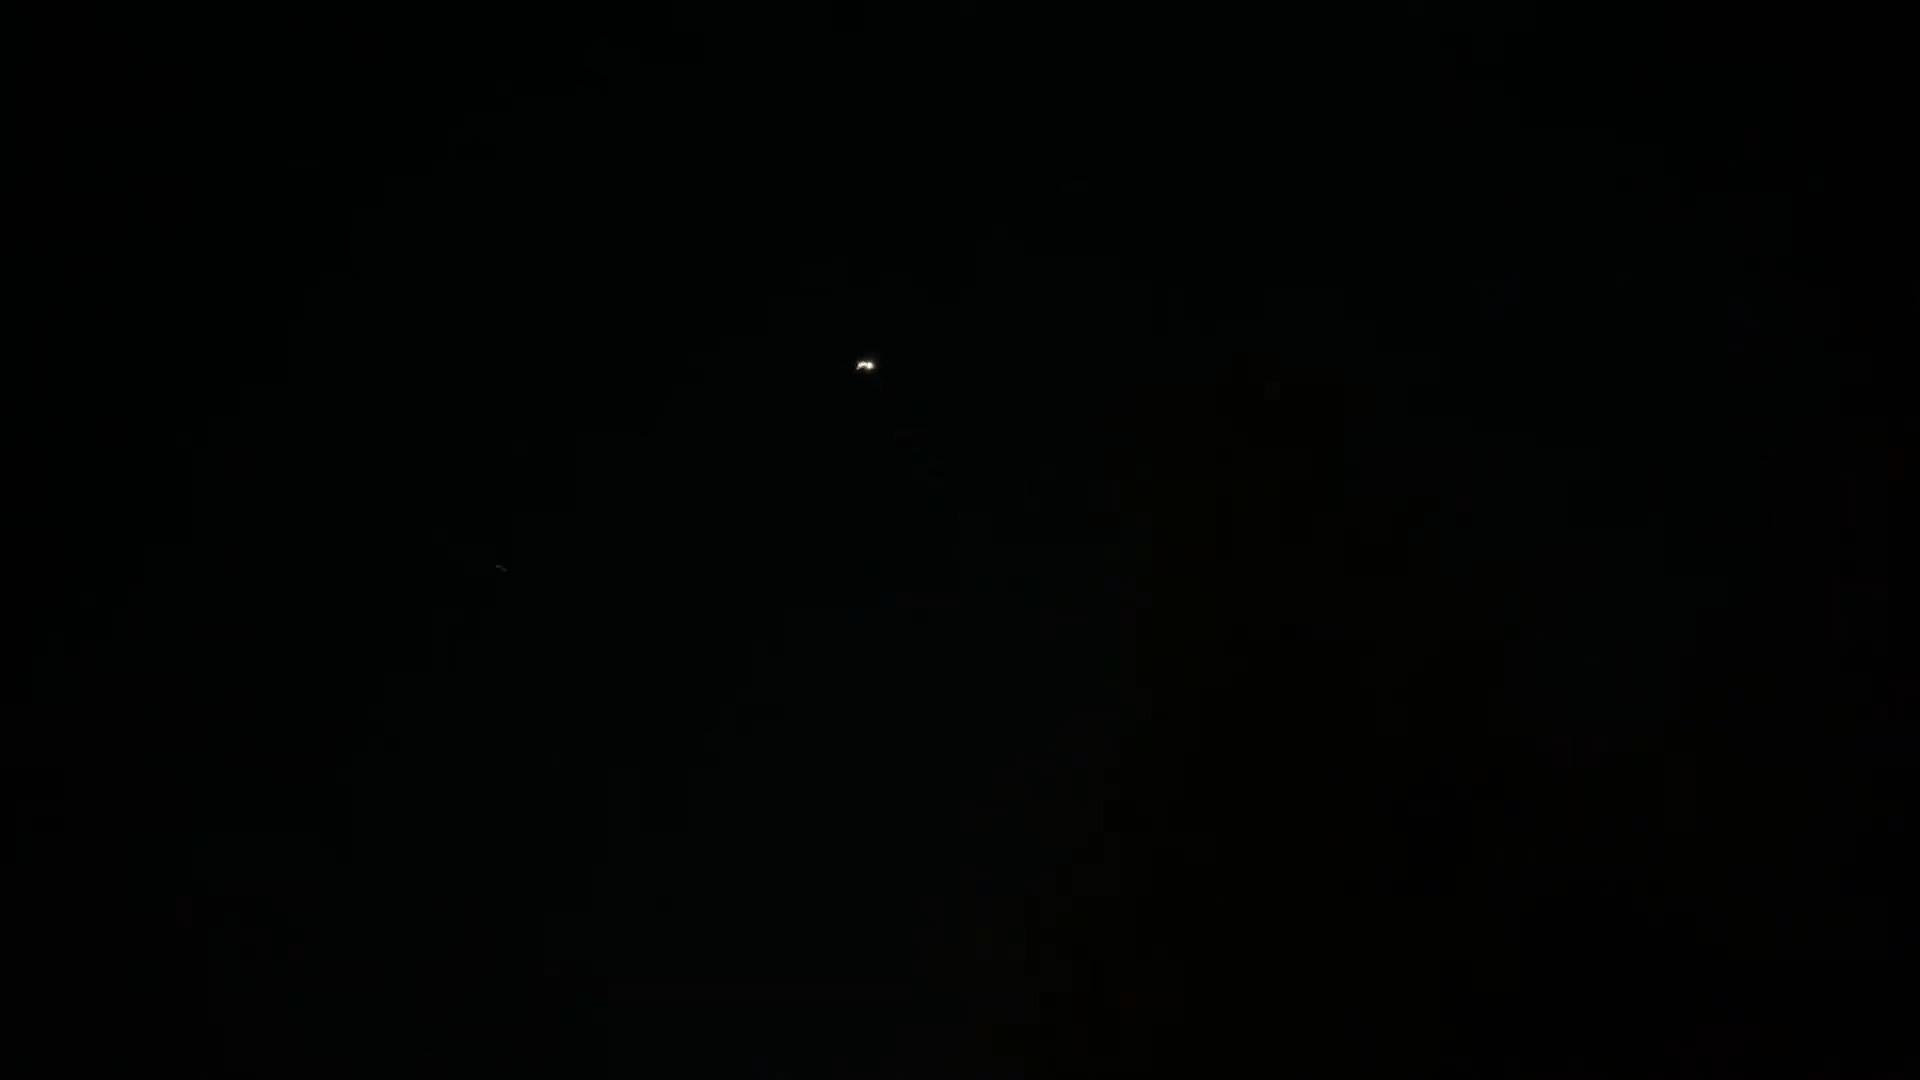Plane: (836, 349, 899, 378)
